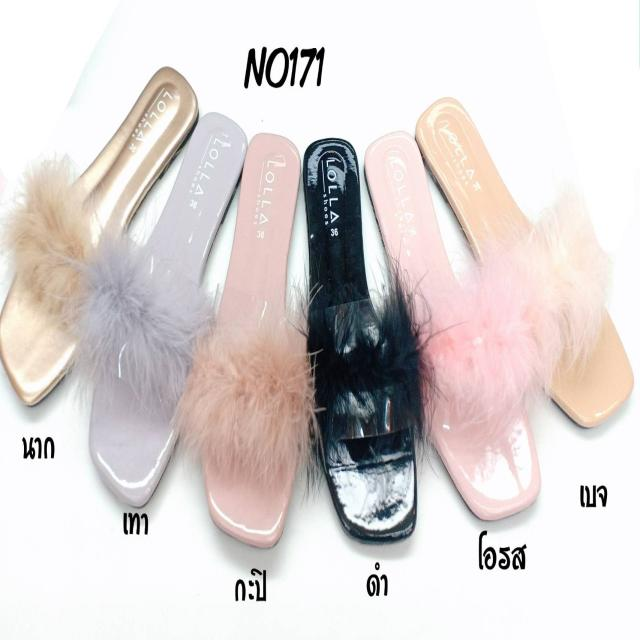bej: (413, 87, 636, 449)
black: (310, 145, 430, 556)
grey: (72, 107, 252, 505)
kapi: (196, 130, 303, 544)
nak: (0, 18, 199, 411)
orot: (372, 133, 549, 522)
